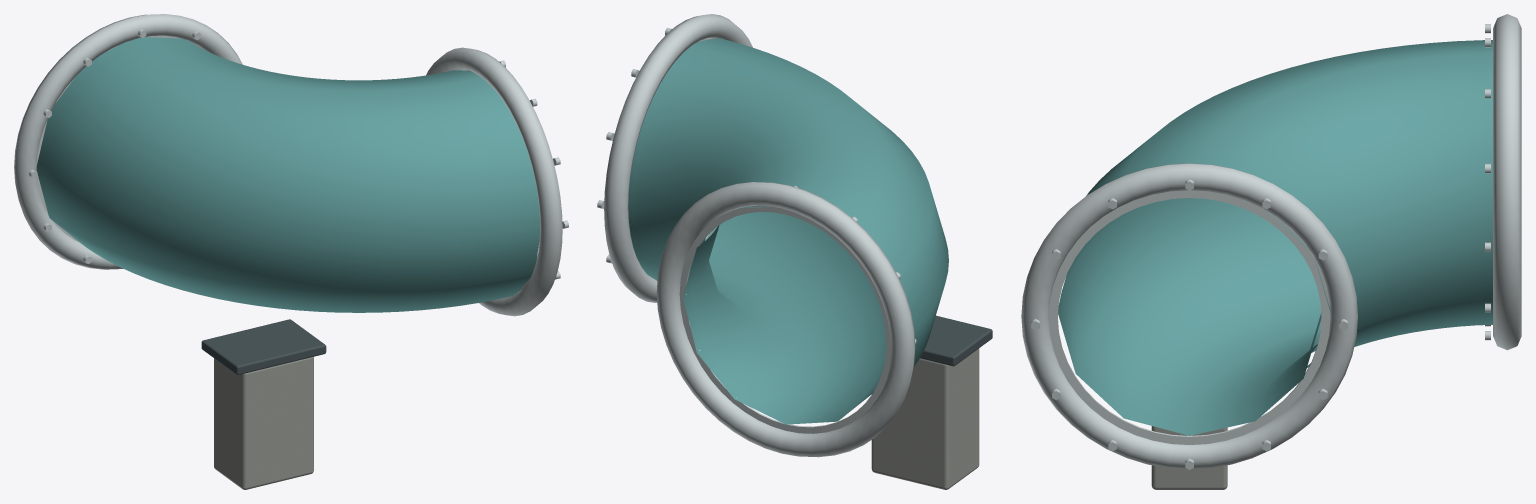
The model's file is hydroelectric-dam-infiltration-penstock-elbow-ad534874__29340.glb.
3 views of the same model, side by side, from view 1: azimuth 30°, elevation 25°; view 2: azimuth 150°, elevation 25°; view 3: azimuth 270°, elevation 25° (orthographic). The views are drawn at different scales.
Visible parts, largest first — view 1: penstock-elbow; view 2: penstock-elbow; view 3: penstock-elbow.
Boxes of the visible parts, x1,y1,x2,y2 form: penstock-elbow: (14, 14, 568, 489); penstock-elbow: (597, 14, 992, 489); penstock-elbow: (1021, 14, 1521, 489).
Size of the model in its own units: 1.6 by 1.53 by 1.57.
4 materials, 1 textured.
